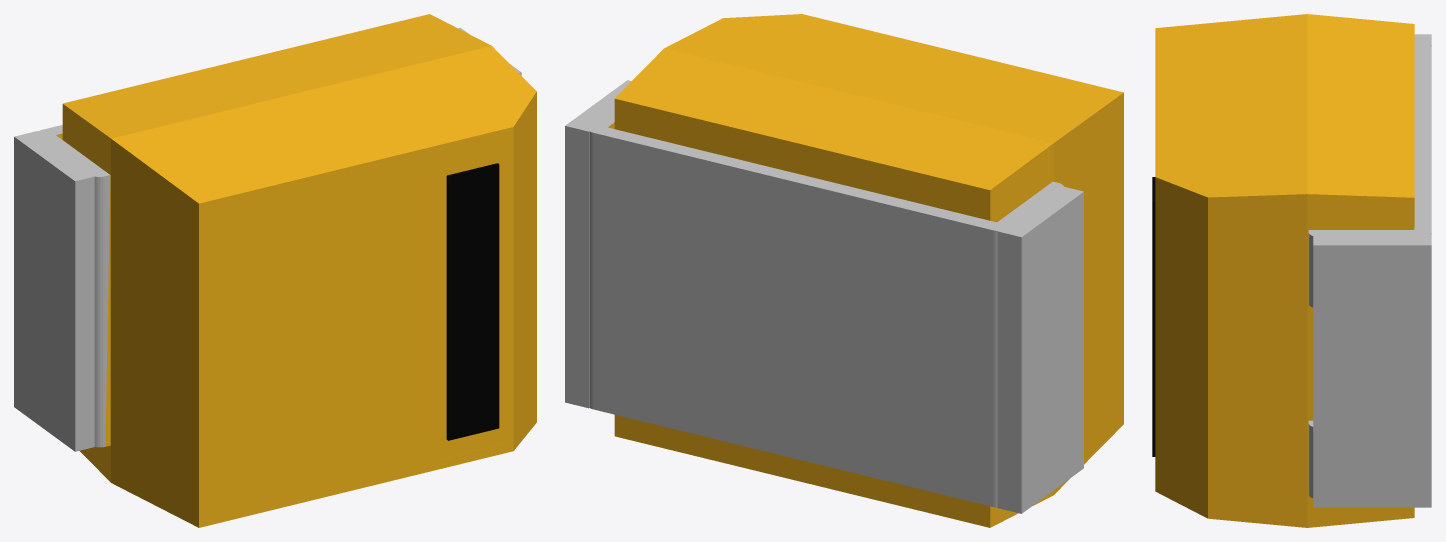
File: Tantal.obj
The picture shows the model from 3 angles, left to right: view 1: azimuth 30°, elevation 25°; view 2: azimuth 150°, elevation 25°; view 3: azimuth 270°, elevation 25°; orthographic projection. The views are drawn at different scales.
Parts seen in each view (by area): view 1: obj1; view 2: obj1; view 3: obj1.
Boxes of the visible parts, left/top/right/bottom form: obj1: left=14, top=14, right=536, bottom=527; obj1: left=565, top=14, right=1123, bottom=527; obj1: left=1152, top=14, right=1431, bottom=527.
Size of the model in its own units: 15.2 by 11.2 by 8.49.
